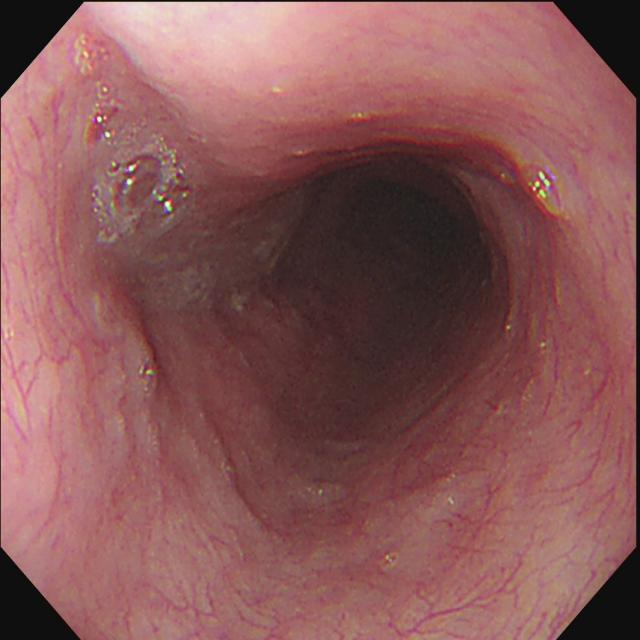E: (340, 163, 477, 275)
J: (143, 254, 254, 315)
T: (92, 150, 192, 239)
U: (531, 172, 553, 201)
